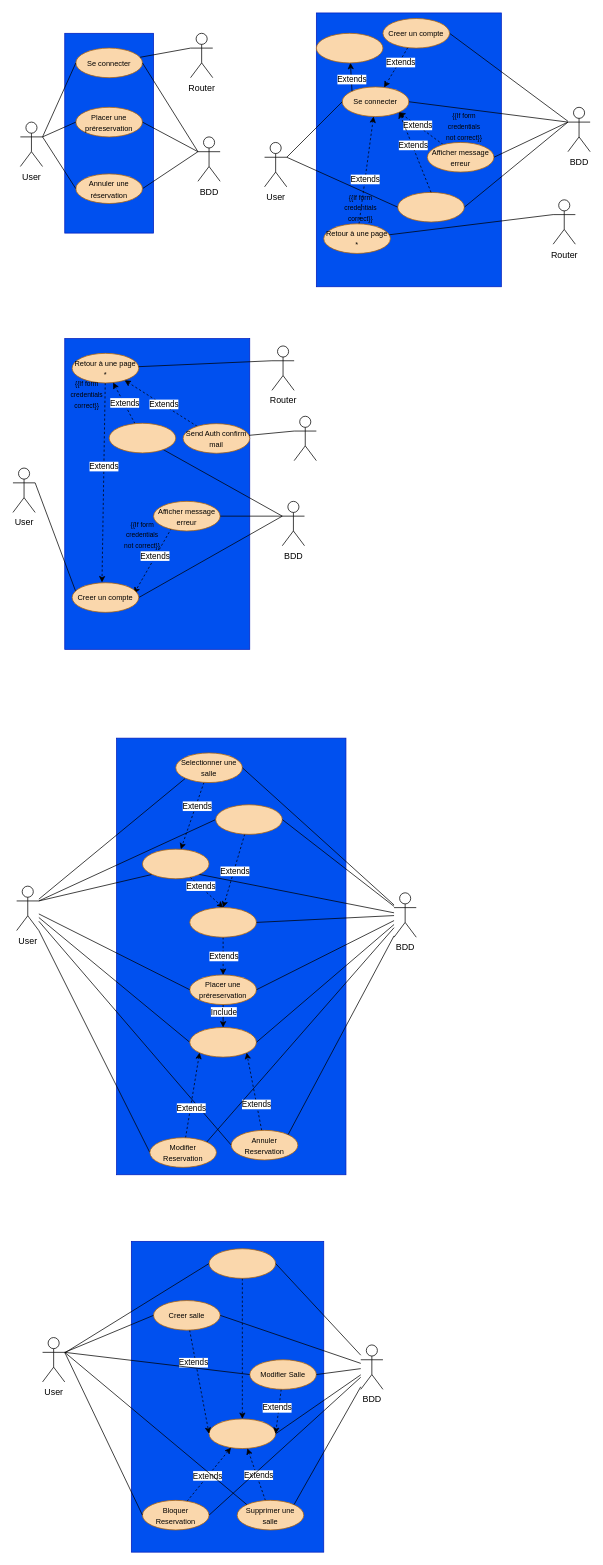
The diagram is 603 pixels wide and 1565 high, and some of its shapes have lost their labels. Each missing label, with the centre of its shape:
Changer de mot de passe: (x=430, y=207)
Confirmer Reservation: (x=222, y=1042)
Consulter Reservation: (x=242, y=1263)
Gestion de salle: (x=242, y=1433)
MailTrap: (x=304, y=438)
Regarder Les salles: (x=222, y=922)
Se déconnecter: (x=349, y=48)
Selectionner des options: (x=248, y=819)
Selectionner une date: (x=175, y=863)
Wait for user to confirm auth: (x=142, y=438)
